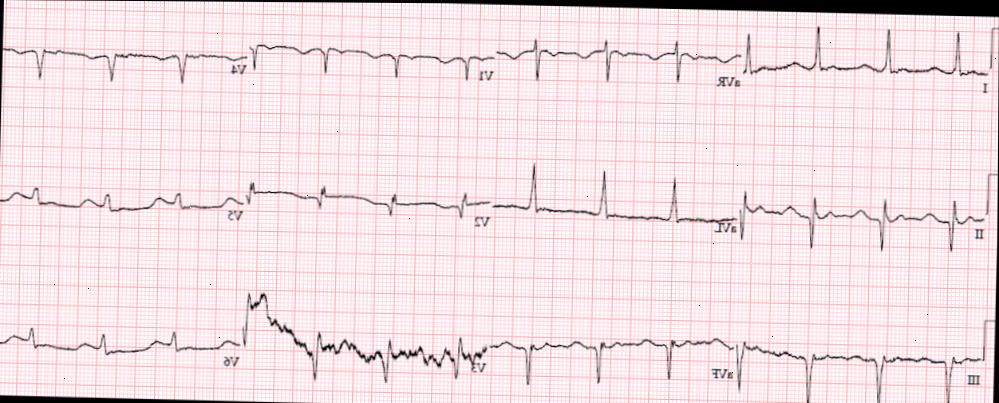Lead_II: (735, 167, 990, 256)
Lead_III: (732, 321, 988, 403)
Lead_V1: (246, 7, 496, 96), (740, 19, 994, 104)
Lead_V2: (243, 151, 493, 244)
Lead_V3: (240, 277, 493, 391)
Lead_V4: (1, 17, 248, 92)
Lead_V5: (0, 165, 243, 232)
Lead_V6: (0, 302, 243, 384)
Lead_aVF: (487, 315, 739, 403)
Lead_aVL: (491, 155, 738, 248)
Lead_aVR: (493, 10, 744, 101)
